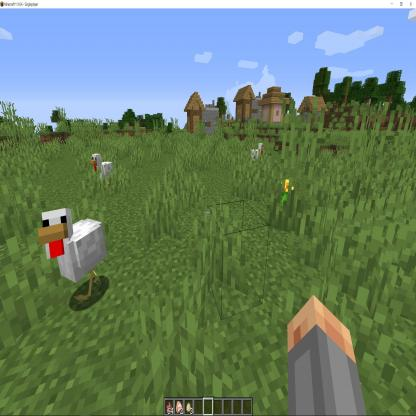minecraft-pigs: (39, 206, 107, 304), (89, 151, 116, 188), (249, 141, 265, 170)
